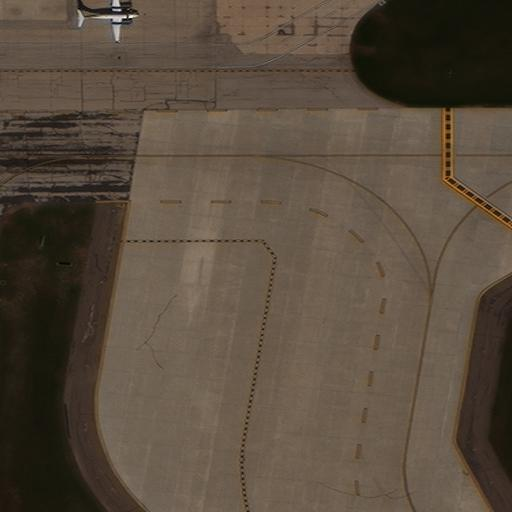Medium Civil Transport: (77, 0, 138, 42)
